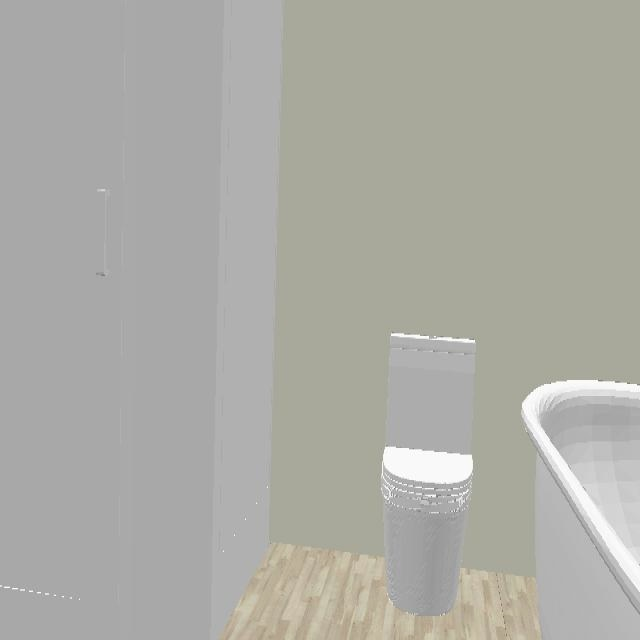bathtube: (521, 380, 640, 640)
toilet: (381, 333, 476, 616)
